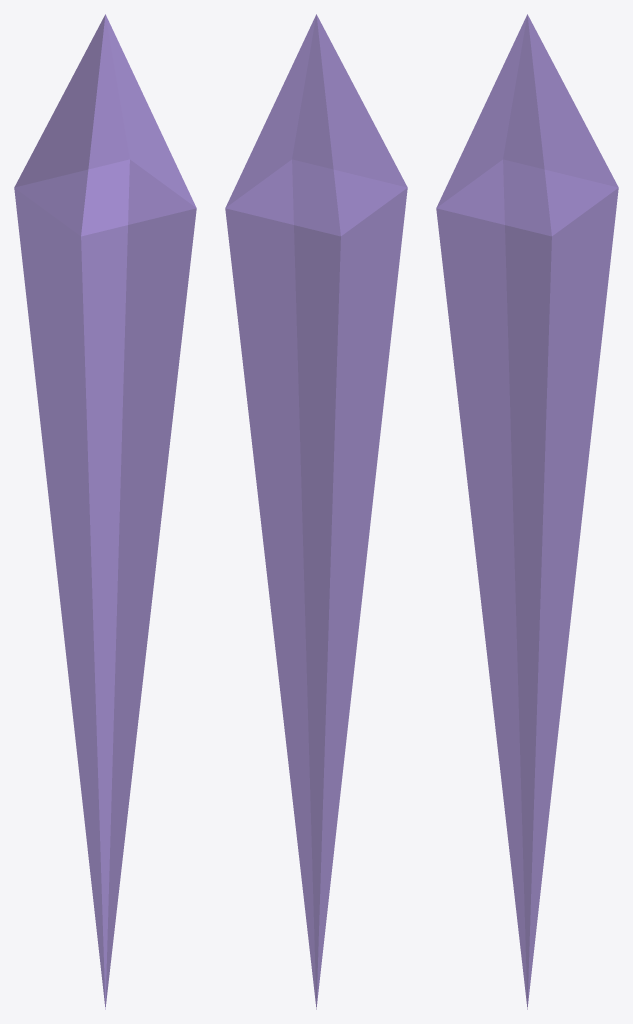
File: Gem_New_10.fbx
3 renders of one model, left to right at view 1: azimuth 30°, elevation 25°; view 2: azimuth 150°, elevation 25°; view 3: azimuth 330°, elevation 25°, orthographic.
Visible parts, largest first — view 1: Model; view 2: Model; view 3: Model.
Part boxes in pixels (bbox=[...]): Model: bbox=[14, 14, 196, 1009]; Model: bbox=[225, 14, 407, 1009]; Model: bbox=[436, 14, 618, 1009].
Size of the model in its own units: 68.5 by 563 by 68.5.
